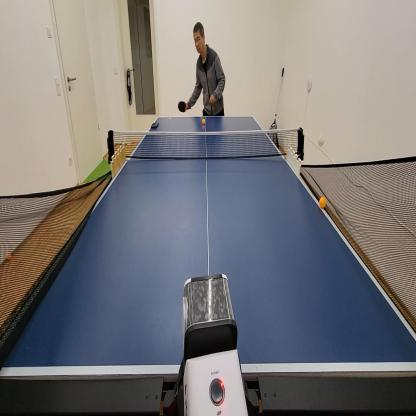Ball: (317, 133, 325, 149), (318, 195, 327, 209), (5, 252, 13, 264), (166, 114, 172, 123), (66, 235, 70, 243), (202, 118, 206, 125)
